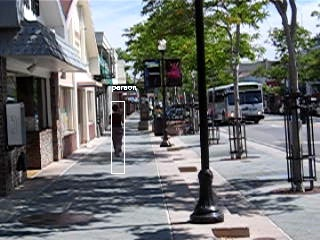person: (108, 105, 127, 160), (107, 105, 126, 160), (109, 105, 128, 160), (108, 104, 127, 159), (108, 106, 127, 161)
target_negative: (243, 69, 312, 203), (234, 196, 313, 225), (124, 199, 199, 203), (279, 72, 303, 80), (153, 207, 170, 213)
